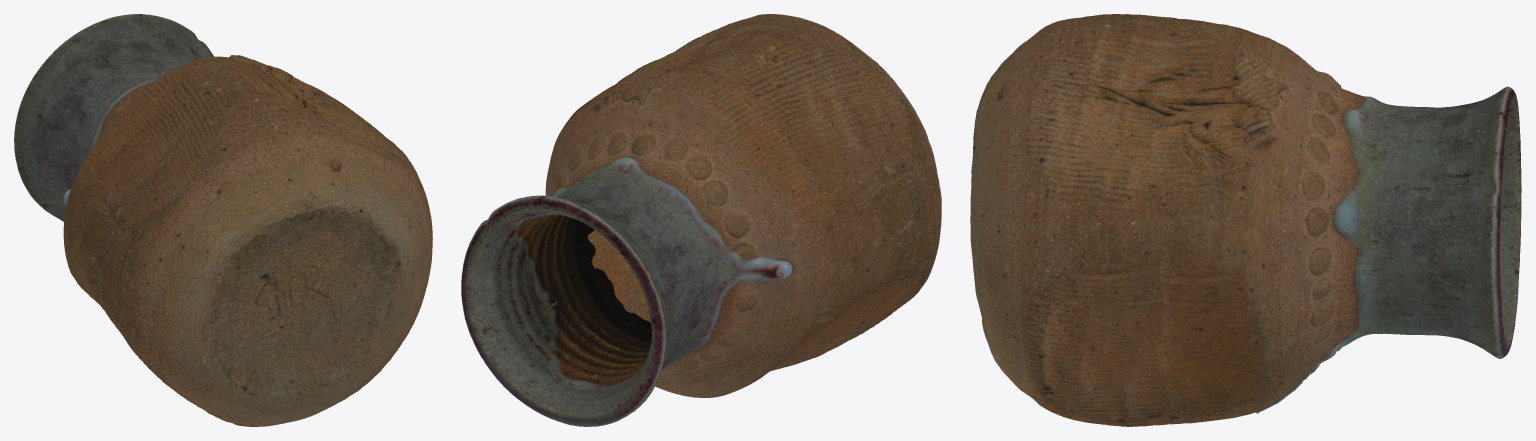
Rendered from vintage-ceramic-vase.glb.
3 renders of one model, left to right at view 1: azimuth 30°, elevation 25°; view 2: azimuth 150°, elevation 25°; view 3: azimuth 270°, elevation 25°, orthographic. The views are drawn at different scales.
Parts seen in each view (by area): view 1: Object_2; view 2: Object_2; view 3: Object_2.
Boxes of the visible parts, box(x1,y1,x2,y2) form: Object_2: box(14, 14, 432, 426); Object_2: box(461, 14, 941, 426); Object_2: box(970, 14, 1521, 426).
Size of the model in its own units: 1.6 by 1.63 by 2.15.
Materials: 1 (1 with a texture image).
